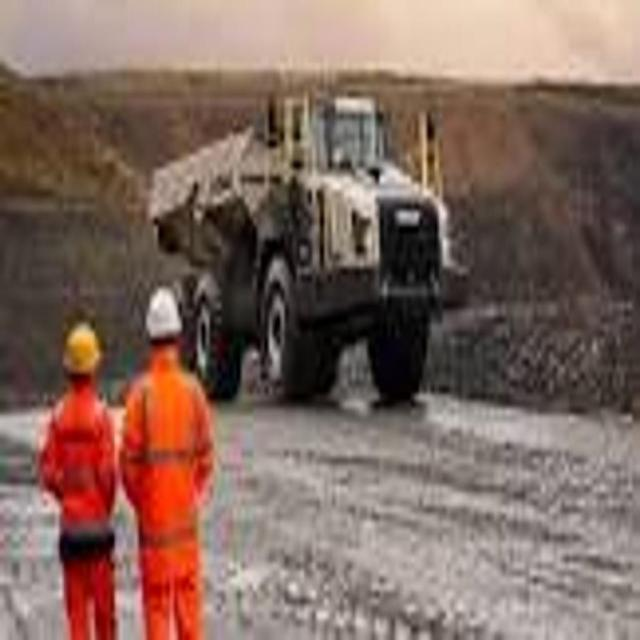dump_truck: (148, 72, 465, 432)
